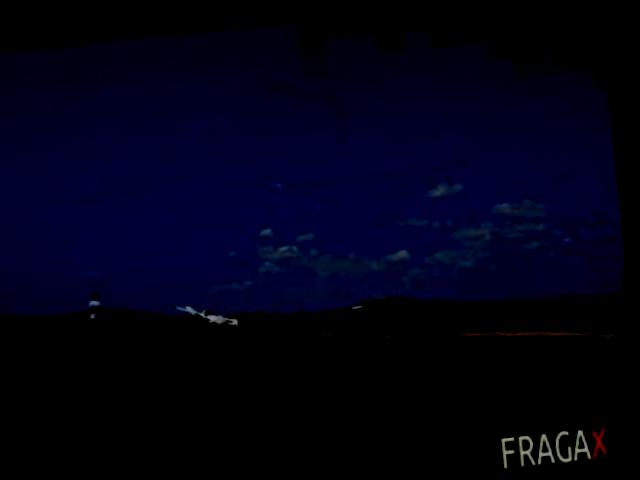uav: (171, 277, 260, 348)
